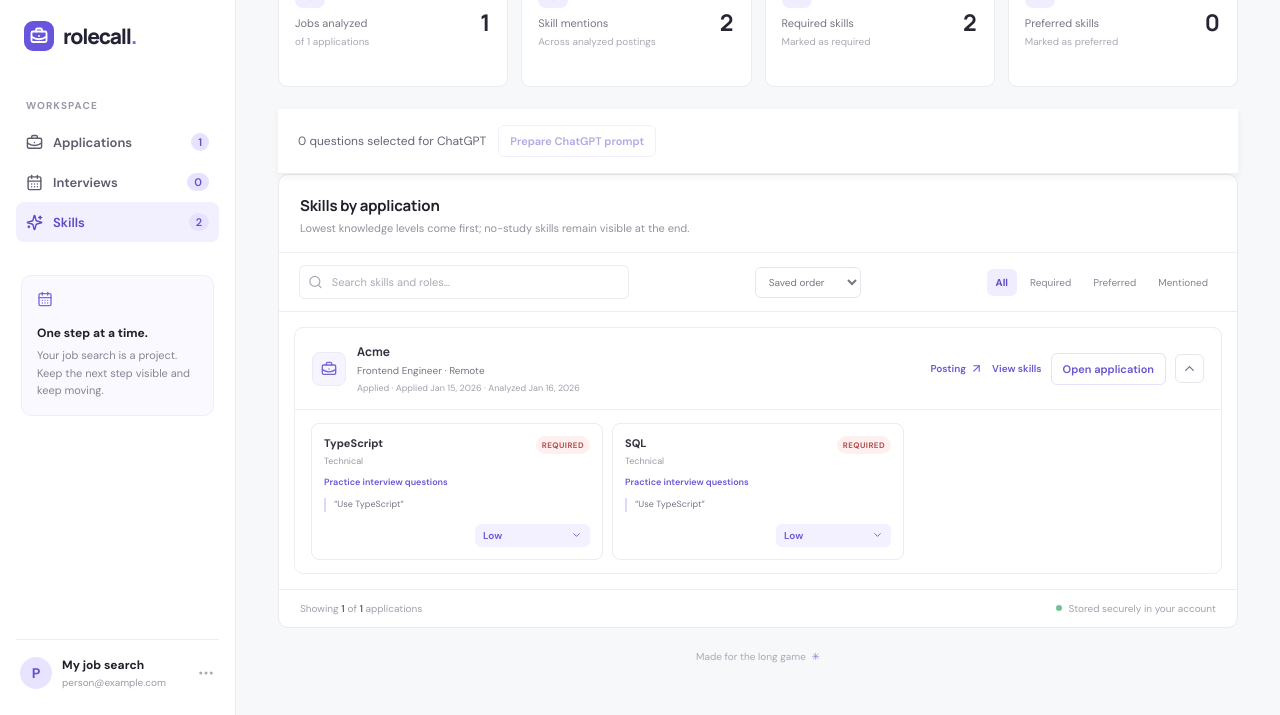
Test: knowledge-level failure and overlapping persistence › blocks overlapping changes to one application until the persisted update returns
(page scrolled)
Select "High" in the dropdown named "Knowledge level for TypeScript" at (532, 535), box [475,524,590,546]
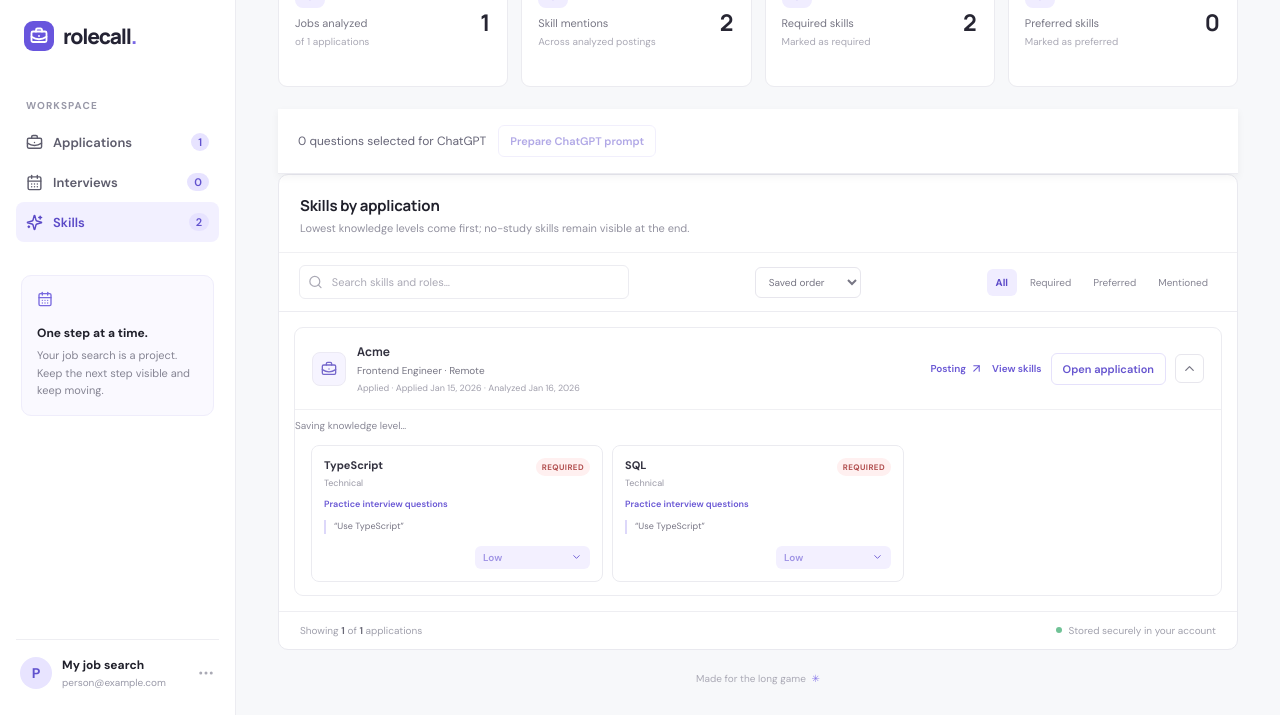
Result: the dropdown named "Knowledge level for TypeScript" is disabled
Select "Medium" in the dropdown named "Knowledge level for TypeScript" at (532, 557), box [475,546,590,568]
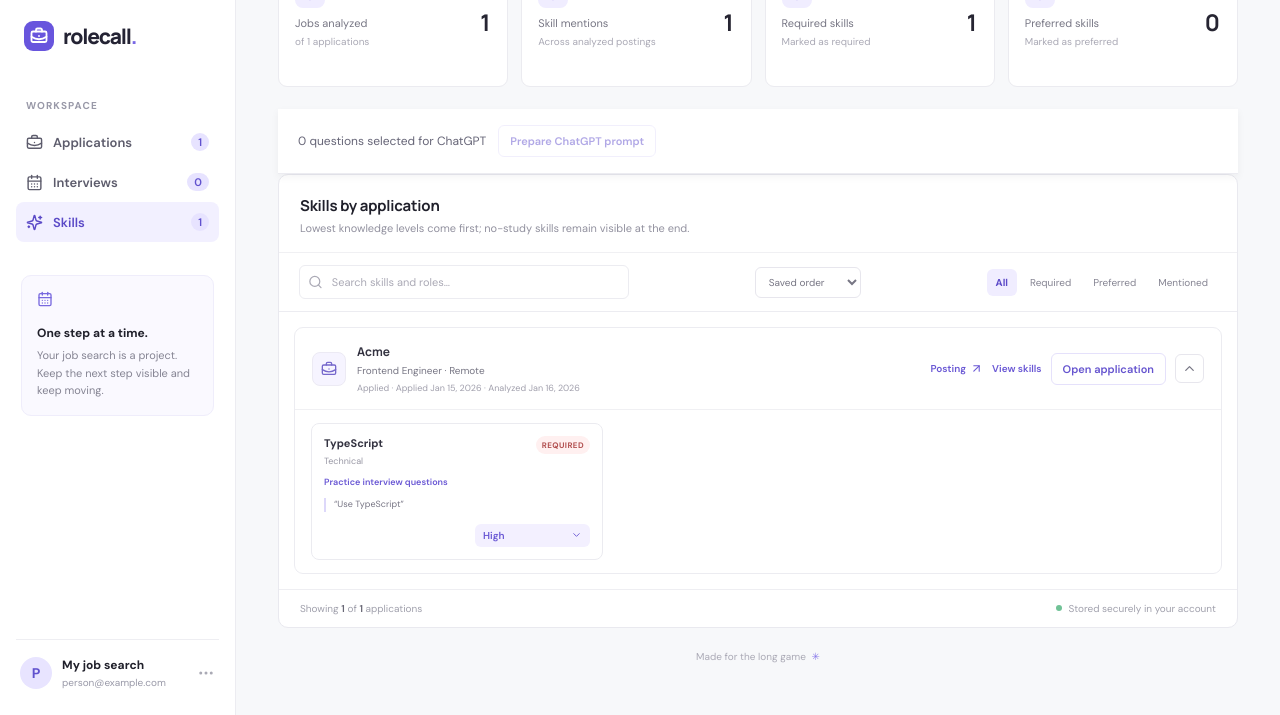
Result: the dropdown named "Knowledge level for TypeScript" is enabled at [475,524,590,546]
